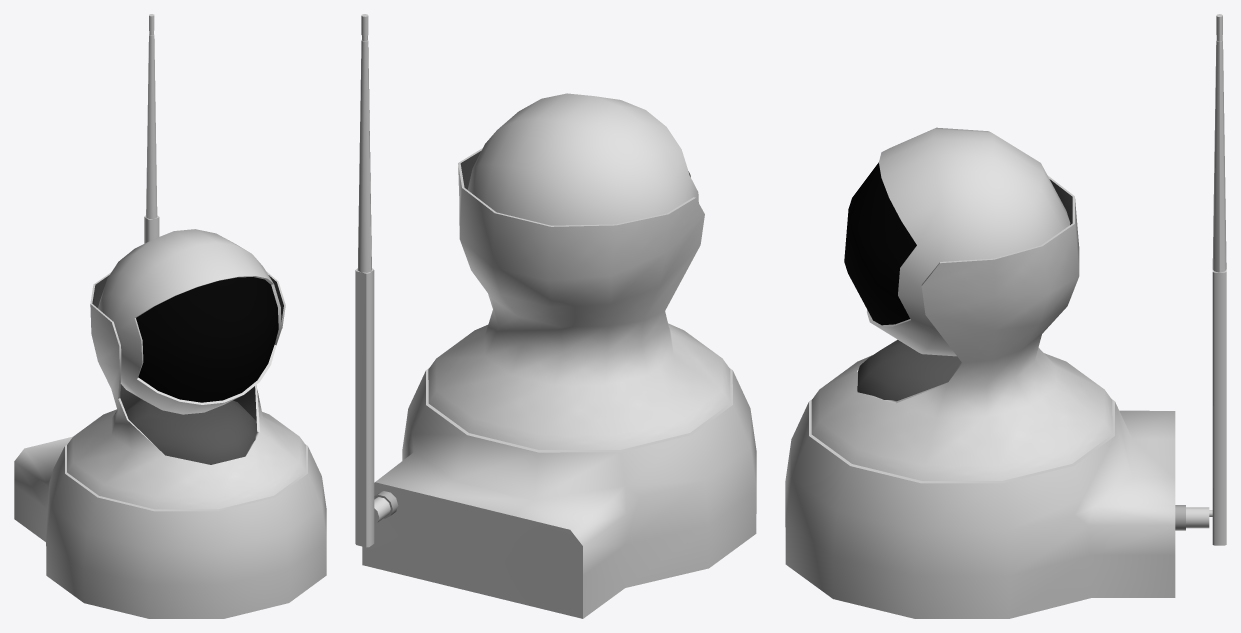
The picture shows the model from 3 angles, left to right: view 1: azimuth 30°, elevation 25°; view 2: azimuth 150°, elevation 25°; view 3: azimuth 270°, elevation 25°; orthographic projection. The views are drawn at different scales.
Visible parts, largest first — view 1: Lo-Body_01; view 2: Lo-Body_01; view 3: Lo-Body_01.
Part boxes in pixels (left/top/right/bottom): Lo-Body_01: left=14, top=14, right=326, bottom=618; Lo-Body_01: left=355, top=14, right=756, bottom=618; Lo-Body_01: left=785, top=14, right=1226, bottom=618.
Bounding box in the file's own units: 0.1291 × 0.2299 × 0.1612.
Materials: 1 (1 with a texture image).
